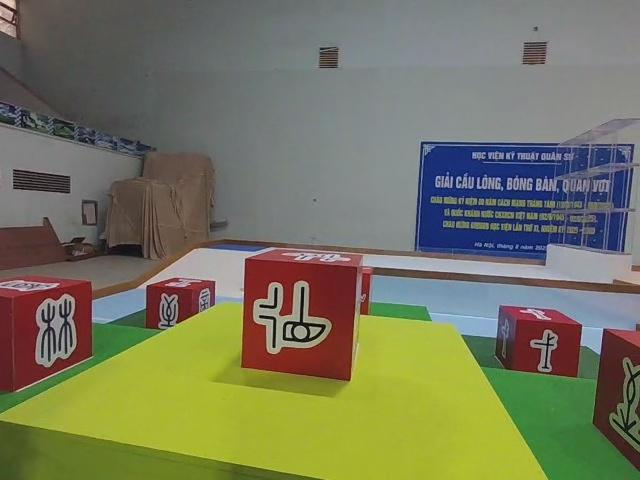R2 Fake: (0, 272, 94, 395), (143, 274, 217, 333)
R2 Real: (238, 245, 366, 385), (591, 326, 640, 479), (492, 301, 585, 379)
